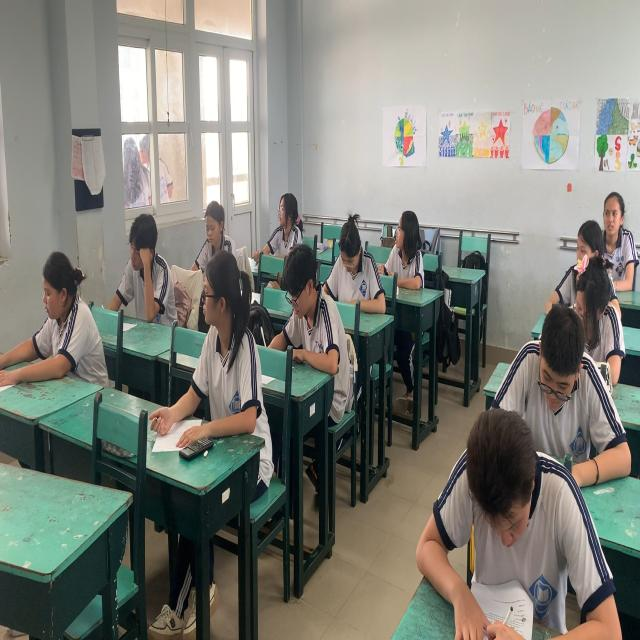cheating: (199, 254, 257, 426), (280, 243, 342, 374), (382, 198, 426, 312), (261, 192, 306, 264)
not_cheating: (423, 402, 580, 640), (514, 309, 613, 481), (32, 250, 100, 377), (564, 246, 615, 360), (120, 211, 170, 315), (331, 215, 387, 305), (596, 191, 638, 298), (199, 192, 234, 266)
